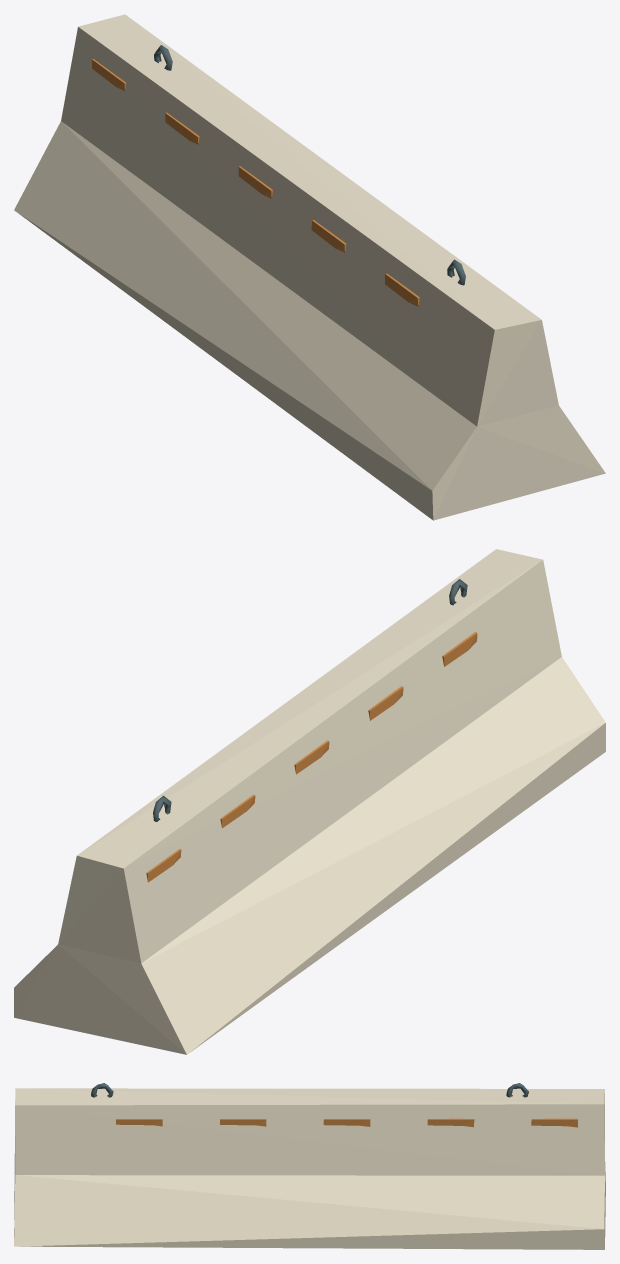
File: quay-barrier.low.glb
3 renders of one model, top to bottom at view 1: azimuth 30°, elevation 25°; view 2: azimuth 150°, elevation 25°; view 3: azimuth 270°, elevation 25°, orthographic. The views are drawn at different scales.
Parts seen in each view (by area): view 1: geometry:body:0, geometry:body:1; view 2: geometry:body:0, geometry:body:1; view 3: geometry:body:0, geometry:body:1, geometry:body:2.
Boxes of the visible parts, box(x1,y1,x2,y2) form: geometry:body:0: box(14, 14, 605, 520); geometry:body:1: box(92, 59, 419, 306); geometry:body:0: box(14, 549, 605, 1054); geometry:body:1: box(146, 632, 477, 882); geometry:body:0: box(14, 1088, 605, 1249); geometry:body:1: box(116, 1118, 577, 1127); geometry:body:2: box(91, 1083, 528, 1097).
Size of the model in its own units: 0.96 by 1.02 by 3.99.
